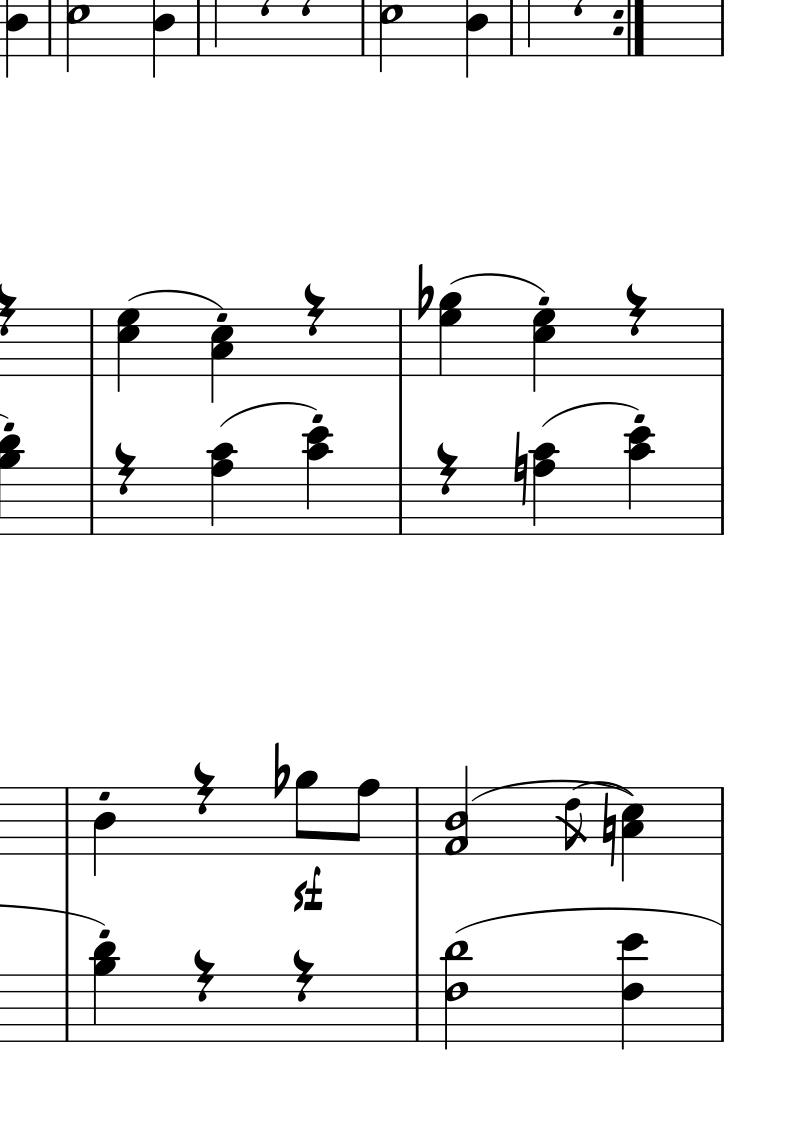2_1_4: (443, 766, 470, 857)
2_6_11: (440, 939, 473, 1050)
4_10_12: (623, 424, 656, 536), (302, 424, 333, 537)
4_3_5: (210, 308, 235, 402), (620, 787, 645, 881)
4_4: (91, 786, 118, 878)
4_5_7: (531, 307, 557, 393), (117, 307, 141, 392)
4_6_12: (616, 931, 649, 1052)
4_7_9: (438, 291, 462, 379)
4_8_10: (205, 442, 238, 536), (528, 442, 561, 536)
4_9_11: (89, 941, 120, 1043)
8_8: (344, 778, 379, 857)
8_9: (293, 769, 317, 857)
Acciaccature: (558, 785, 589, 855)
Flat: (415, 259, 434, 323), (271, 740, 290, 801)
Natural: (599, 790, 618, 872), (512, 429, 529, 509)
Rests4: (623, 282, 650, 339), (302, 283, 327, 340), (434, 441, 459, 498), (191, 760, 216, 817), (191, 948, 216, 1005), (112, 442, 137, 498), (291, 948, 315, 1005)
RightRepeatSign: (611, 1, 648, 57)
Single_barline: (712, 974, 730, 1040), (83, 308, 100, 375), (713, 467, 730, 534), (392, 309, 409, 375), (84, 467, 99, 534), (59, 787, 74, 854), (714, 787, 729, 854), (714, 309, 729, 375), (60, 974, 74, 1041)
Slur: (449, 907, 723, 933), (474, 779, 632, 802), (539, 400, 639, 430), (217, 400, 316, 429), (452, 271, 542, 293), (128, 289, 222, 309)
sf: (292, 866, 324, 913)
